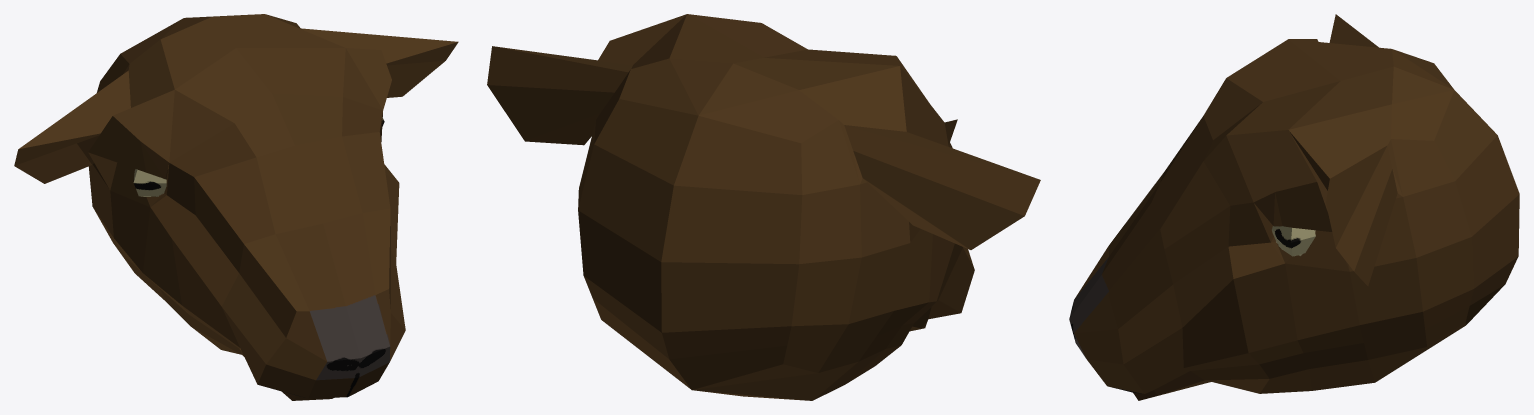
Rendered from RamHead.fbx.
The picture shows the model from 3 angles, left to right: view 1: azimuth 30°, elevation 25°; view 2: azimuth 150°, elevation 25°; view 3: azimuth 270°, elevation 25°; orthographic projection. The views are drawn at different scales.
Parts seen in each view (by area): view 1: ramHead; view 2: ramHead; view 3: ramHead.
Boxes of the visible parts, x1,y1,x2,y2 form: ramHead: (14,14,458,400); ramHead: (487,14,1040,400); ramHead: (1069,14,1519,400).
Size of the model in its own units: 273 by 174 by 222.
1 material, 1 textured.
